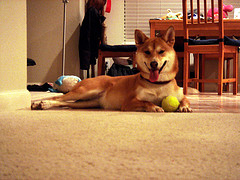tennis ball: (160, 94, 179, 113)
